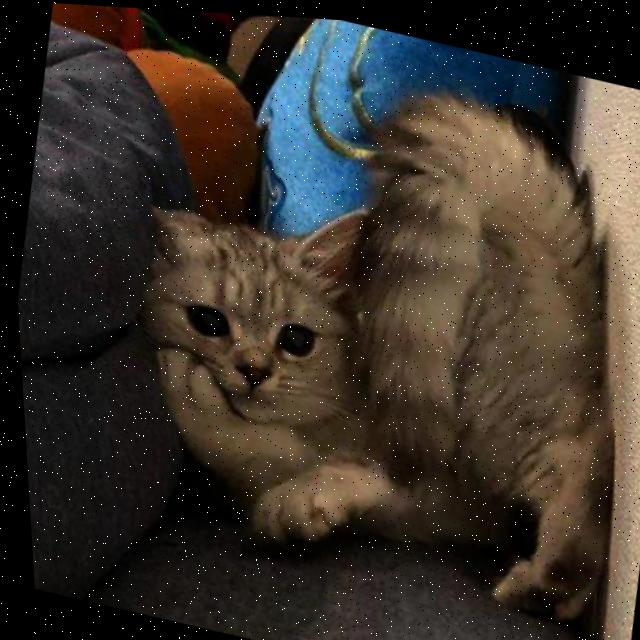Cats: (73, 11, 640, 637)
